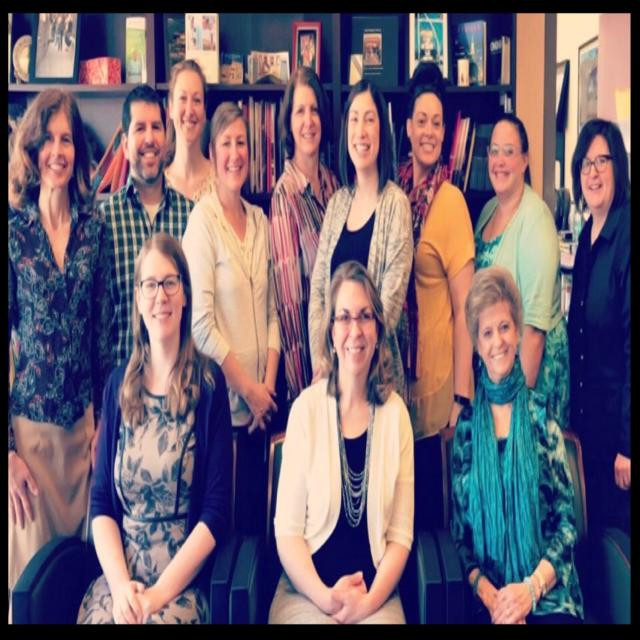body: (76, 231, 236, 626), (8, 84, 116, 626), (266, 255, 416, 640), (446, 260, 589, 640), (180, 99, 284, 544), (394, 58, 477, 538), (306, 77, 416, 398), (472, 113, 571, 439), (564, 115, 632, 561), (97, 84, 196, 372), (269, 66, 342, 405), (45, 15, 216, 75), (155, 56, 219, 203)
